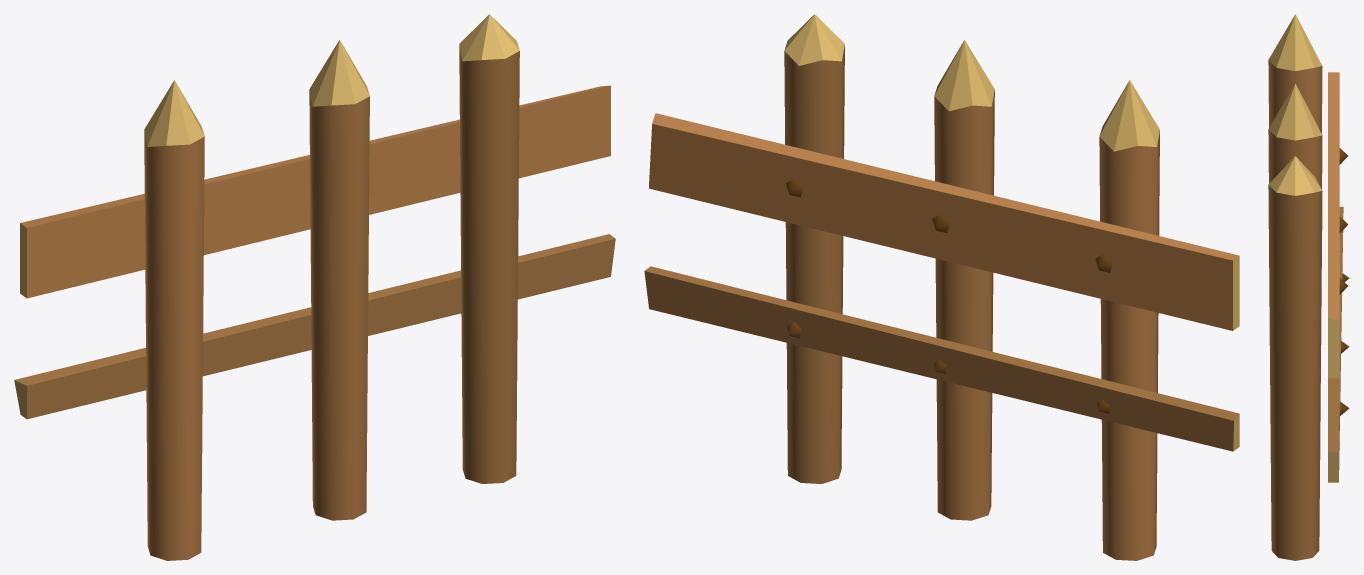
The model's file is Fense-ver2-light.fbx.
The picture shows the model from 3 angles, left to right: view 1: azimuth 30°, elevation 25°; view 2: azimuth 150°, elevation 25°; view 3: azimuth 270°, elevation 25°; orthographic projection. The views are drawn at different scales.
Parts seen in each view (by area): view 1: Fense-ver2-light; view 2: Fense-ver2-light; view 3: Fense-ver2-light.
Part boxes in pixels (bbox=[...]): Fense-ver2-light: bbox=[14, 14, 615, 560]; Fense-ver2-light: bbox=[644, 14, 1239, 560]; Fense-ver2-light: bbox=[1268, 14, 1349, 560].
Size of the model in its own units: 1.61 by 1.22 by 0.2214.
